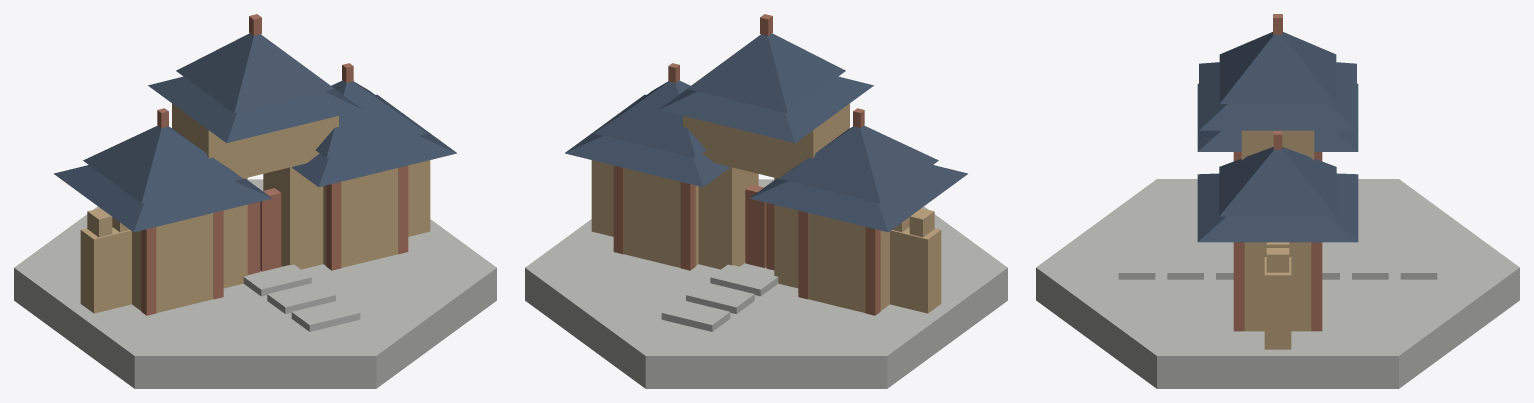
The model's file is gate.glb.
3 renders of one model, left to right at view 1: azimuth 30°, elevation 25°; view 2: azimuth 150°, elevation 25°; view 3: azimuth 270°, elevation 25°, orthographic.
Visible parts, largest first — view 1: platform, gate_roof, tower_left_roof, tower_left_body, gate_eave, tower_left_eave, tower_right_body, gate_upper, gate_pillar_1, tower_right_eave, tower_right_roof, left_wall (+12 smaller); view 2: platform, gate_roof, tower_left_roof, tower_left_body, gate_eave, tower_left_eave, tower_right_body, gate_upper, gate_pillar_1, tower_right_eave, tower_right_roof, left_wall (+12 smaller); view 3: platform, gate_roof, tower_right_roof, tower_right_eave, gate_eave, tower_right_body, right_wall, tower_left_eave, gate_upper, road_0, road_5, road_1 (+6 smaller).
Boxes of the visible parts, <box> form: platform: <box>14,179,496,388</box>; gate_roof: <box>176,33,334,113</box>; tower_left_roof: <box>83,125,242,203</box>; tower_left_body: <box>132,213,213,312</box>; gate_eave: <box>148,76,362,143</box>; tower_left_eave: <box>54,165,272,232</box>; tower_right_body: <box>323,168,398,267</box>; gate_upper: <box>172,103,338,178</box>; gate_pillar_1: <box>263,166,323,269</box>; tower_right_eave: <box>292,94,456,187</box>; tower_right_roof: <box>315,80,427,158</box>; left_wall: <box>80,227,131,313</box>; platform: <box>525,179,1007,388</box>; gate_roof: <box>687,33,845,113</box>; tower_left_roof: <box>779,125,938,203</box>; tower_left_body: <box>808,213,889,312</box>; gate_eave: <box>659,76,873,143</box>; tower_left_eave: <box>749,165,967,232</box>; tower_right_body: <box>623,168,698,267</box>; gate_upper: <box>683,103,849,178</box>; gate_pillar_1: <box>698,166,758,269</box>; tower_right_eave: <box>565,94,729,187</box>; tower_right_roof: <box>594,80,706,158</box>; left_wall: <box>890,227,941,313</box>; platform: <box>1036,179,1519,388</box>; gate_roof: <box>1219,32,1336,103</box>; tower_right_roof: <box>1219,147,1336,216</box>; tower_right_eave: <box>1197,173,1358,242</box>; gate_eave: <box>1199,62,1356,130</box>; tower_right_body: <box>1244,242,1311,331</box>; right_wall: <box>1264,257,1291,349</box>; tower_left_eave: <box>1197,83,1358,151</box>; gate_upper: <box>1241,130,1314,159</box>; road_0: <box>1118,248,1155,279</box>; road_5: <box>1400,248,1437,279</box>; road_1: <box>1167,248,1203,279</box>.
Size of the model in its own units: 0.9951 by 0.7452 by 1.15.
